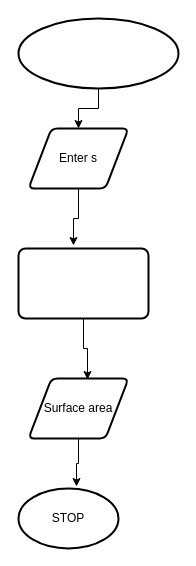
Some shapes in this 196 by 566 pixel diagram are drawn without their labels. The shapes that lost their labels are listed below. From the top down, each one's box as (x1, y1, x2, y2) in pixels, then its label:
(17, 17, 179, 89): START
(17, 247, 149, 319): Surface area = 6 * s *2
